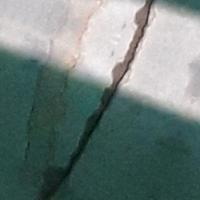crack: (45, 0, 156, 199)
